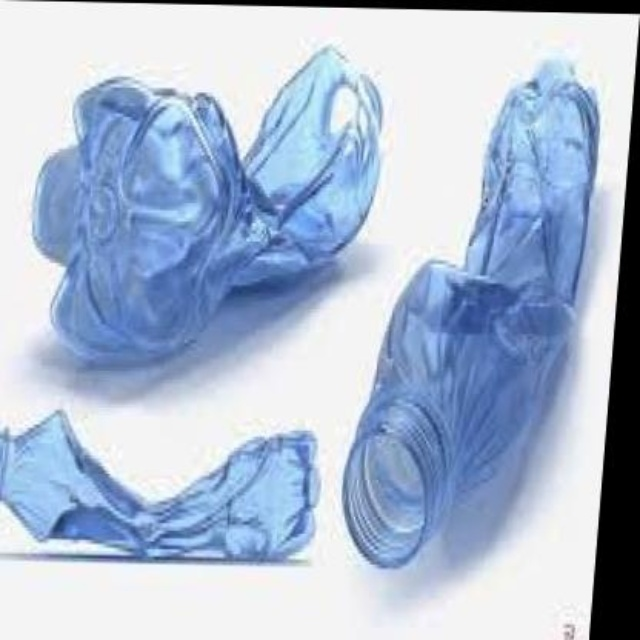trash: (343, 62, 597, 566), (34, 46, 380, 363), (0, 411, 317, 560)
